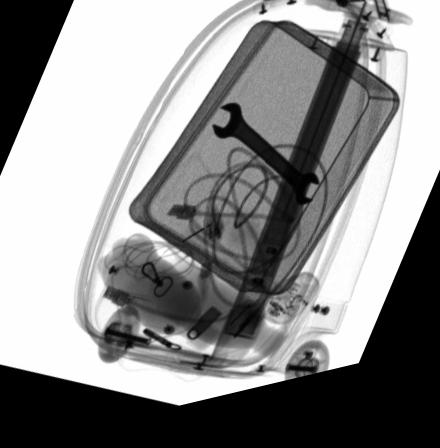Wrench: (211, 112, 321, 219)
